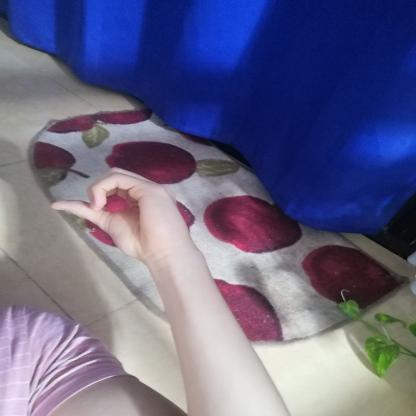WAW: (33, 158, 201, 270)
